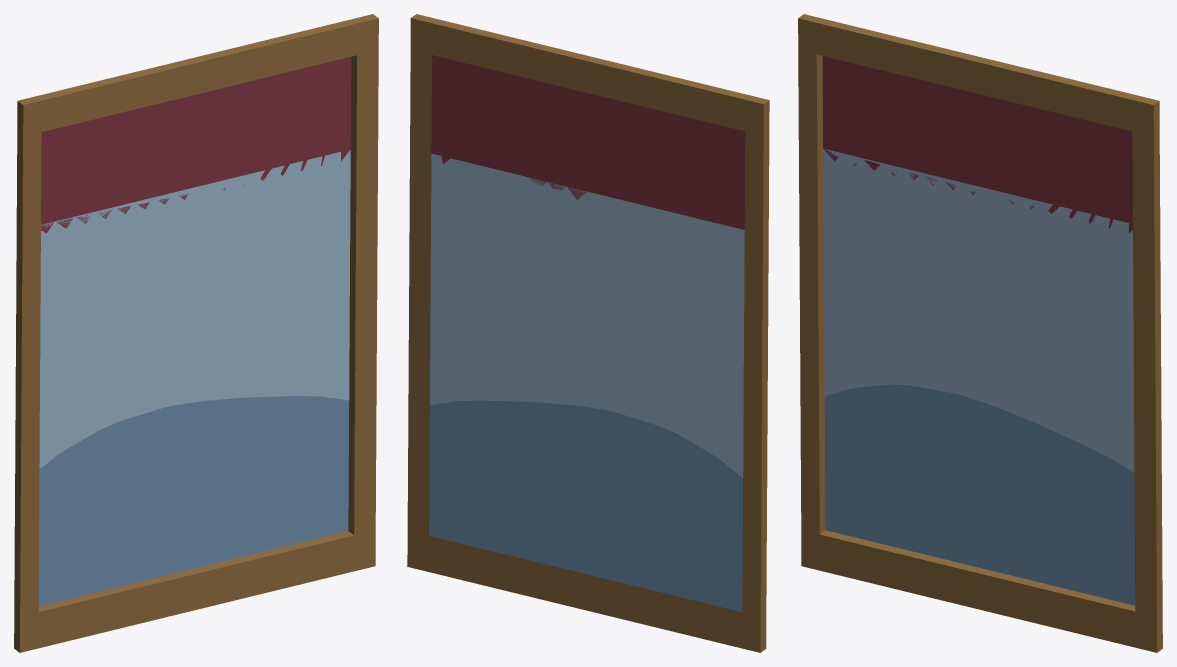
File: Cuadro3.obj
The picture shows the model from 3 angles, left to right: view 1: azimuth 30°, elevation 25°; view 2: azimuth 150°, elevation 25°; view 3: azimuth 330°, elevation 25°; orthographic projection.
Parts seen in each view (by area): view 1: Mesh18Model; view 2: Mesh18Model; view 3: Mesh18Model.
Boxes of the visible parts, box(x1,y1,x2,y2) form: Mesh18Model: box(14, 14, 378, 652); Mesh18Model: box(407, 14, 769, 652); Mesh18Model: box(798, 14, 1162, 652).
Size of the model in its own units: 0.71 by 1.05 by 0.0319.
4 materials, 4 textured.
